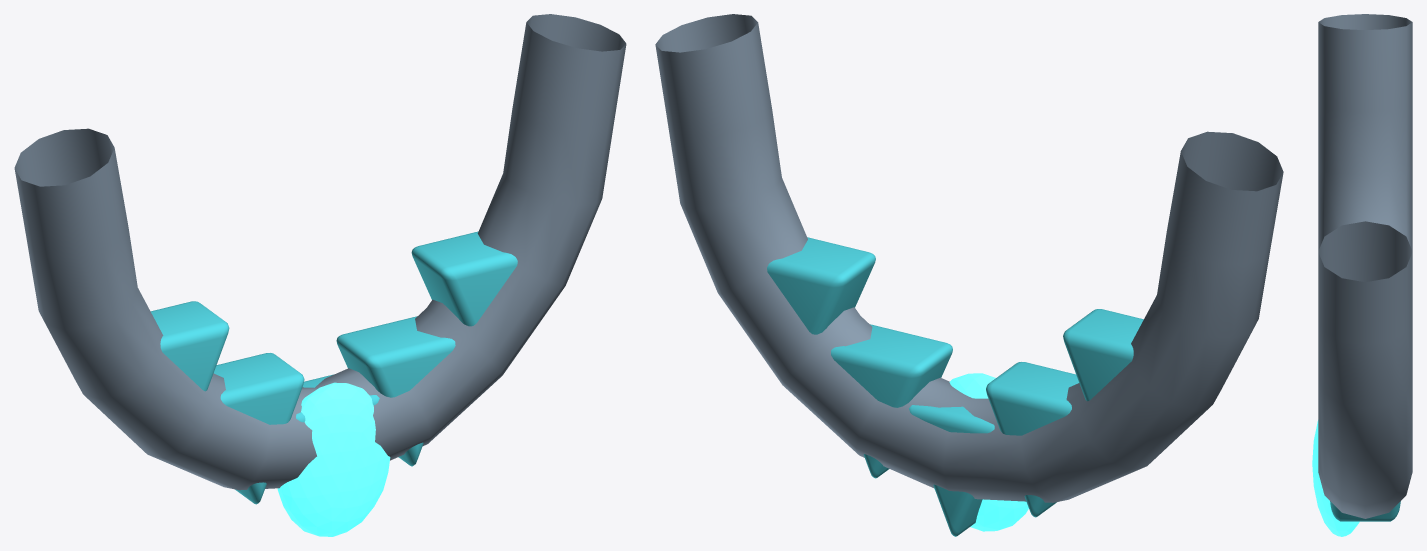
Rendered from necklace_v5.glb.
3 renders of one model, left to right at view 1: azimuth 30°, elevation 25°; view 2: azimuth 150°, elevation 25°; view 3: azimuth 270°, elevation 25°, orthographic. The views are drawn at different scales.
Visible parts, largest first — view 1: COLLAR_PRIMARY, COLLAR_CORE_EMISSIVE, COLLAR_PLATE_ACCENT.003, COLLAR_PLATE_ACCENT.004, COLLAR_PLATE_ACCENT.001, COLLAR_PLATE_ACCENT; view 2: COLLAR_PRIMARY, COLLAR_PLATE_ACCENT.003, COLLAR_PLATE_ACCENT.004, COLLAR_PLATE_ACCENT.001, COLLAR_PLATE_ACCENT, COLLAR_PLATE_ACCENT.002, COLLAR_CORE_EMISSIVE; view 3: COLLAR_PRIMARY, COLLAR_CORE_EMISSIVE, COLLAR_PLATE_ACCENT.003.
Part boxes in pixels (box(x1,y1,x2,y2)): COLLAR_PRIMARY: box(14, 14, 626, 490); COLLAR_CORE_EMISSIVE: box(277, 382, 390, 536); COLLAR_PLATE_ACCENT.003: box(336, 316, 455, 466); COLLAR_PLATE_ACCENT.004: box(411, 231, 517, 326); COLLAR_PLATE_ACCENT.001: box(214, 353, 304, 504); COLLAR_PLATE_ACCENT: box(150, 301, 229, 391); COLLAR_PRIMARY: box(655, 14, 1283, 502); COLLAR_PLATE_ACCENT.003: box(831, 324, 952, 478); COLLAR_PLATE_ACCENT.004: box(767, 237, 875, 334); COLLAR_PLATE_ACCENT.001: box(986, 362, 1078, 517); COLLAR_PLATE_ACCENT: box(1063, 309, 1143, 401); COLLAR_PLATE_ACCENT.002: box(909, 405, 994, 536); COLLAR_CORE_EMISSIVE: box(934, 373, 1028, 531); COLLAR_PRIMARY: box(1318, 14, 1412, 518); COLLAR_CORE_EMISSIVE: box(1312, 420, 1359, 536); COLLAR_PLATE_ACCENT.003: box(1330, 501, 1400, 521).
Bounding box in the file's own units: 2.15 × 1.52 × 0.34.
